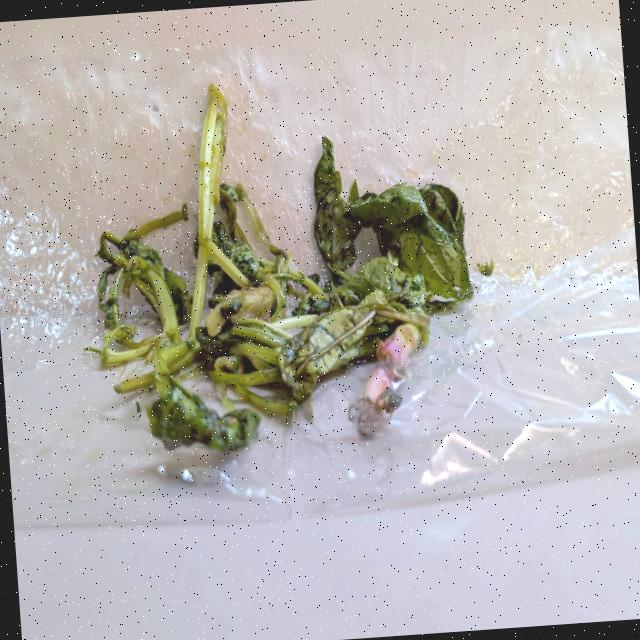rotten spinach: (70, 79, 489, 454), (98, 104, 280, 455), (292, 168, 478, 431)
